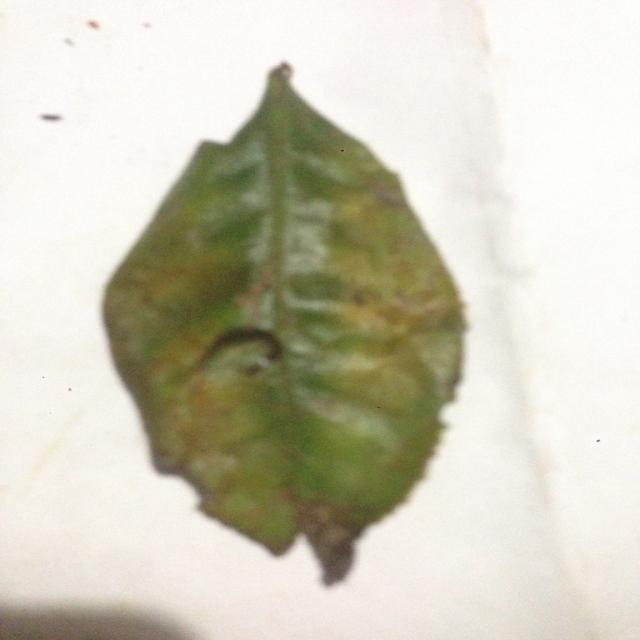Red Leaf Spot: (98, 52, 491, 594)
